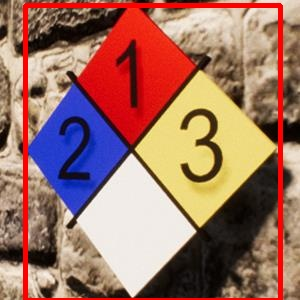nfpa: (25, 5, 280, 300)
